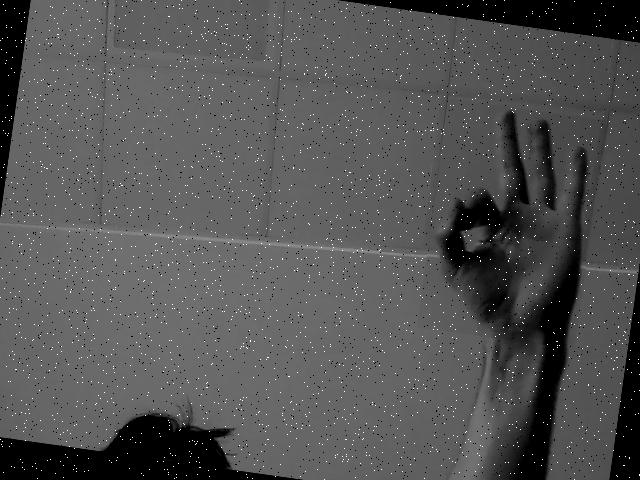OK: (429, 108, 587, 340)
